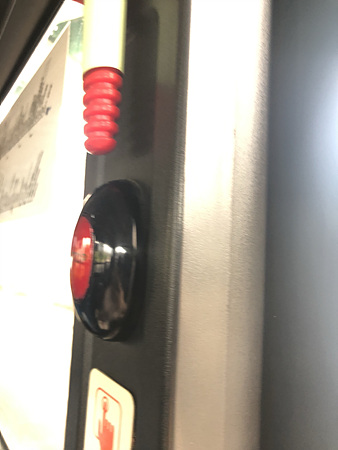bell: (69, 179, 147, 341)
